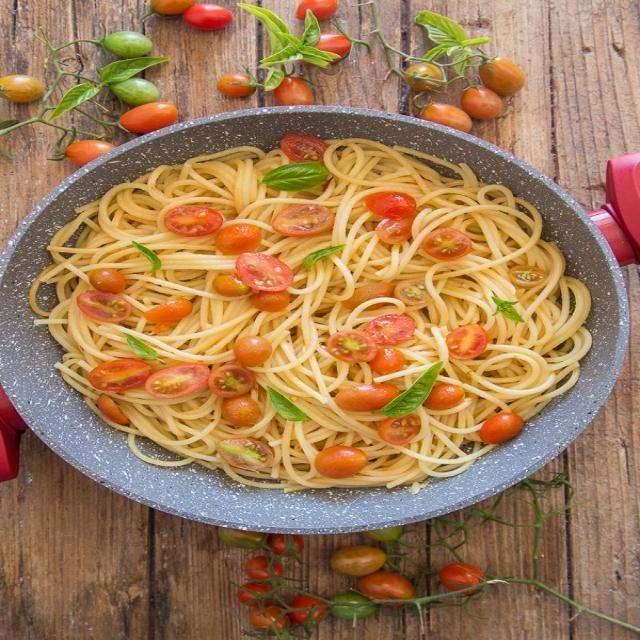Oil pasta: (26, 91, 578, 585)
